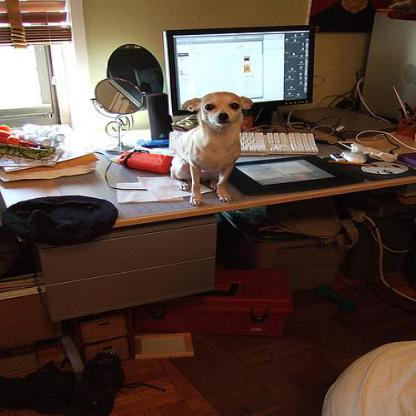dog: (180, 90, 253, 206)
